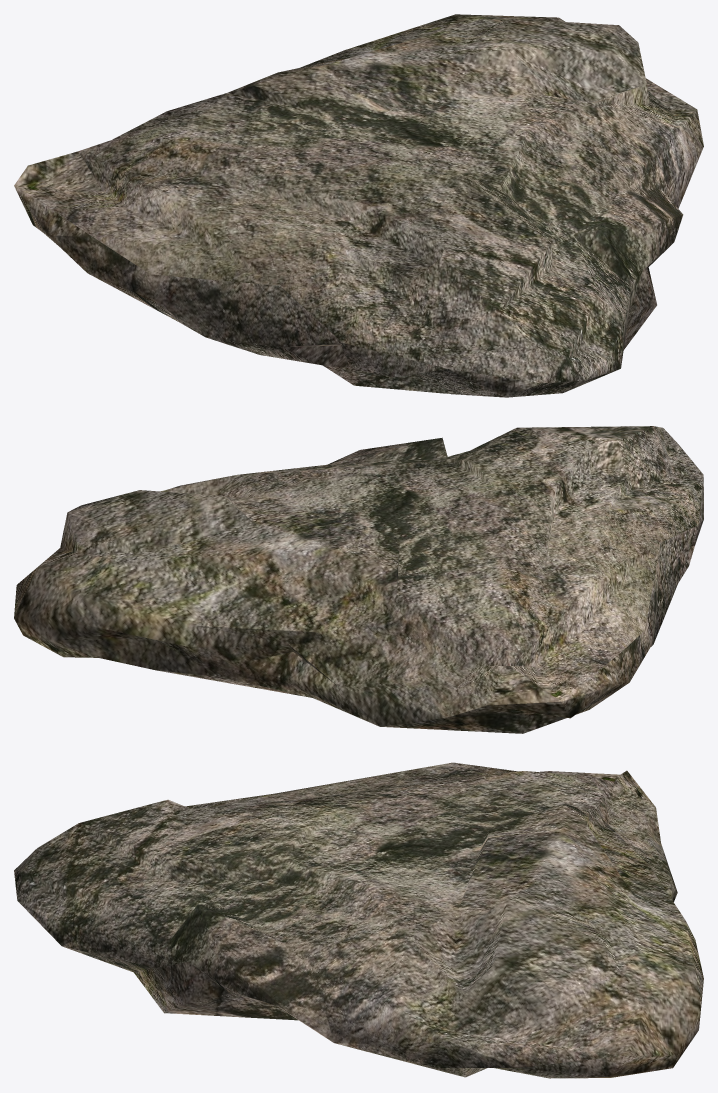
The model's file is BigRock2.glb.
3 renders of one model, top to bottom at view 1: azimuth 30°, elevation 25°; view 2: azimuth 150°, elevation 25°; view 3: azimuth 270°, elevation 25°, orthographic. The views are drawn at different scales.
Visible parts, largest first — view 1: BigRockB; view 2: BigRockB; view 3: BigRockB.
Part boxes in pixels (bbox=[...]): BigRockB: bbox=[14, 14, 703, 397]; BigRockB: bbox=[14, 426, 703, 733]; BigRockB: bbox=[14, 762, 703, 1078].
Bounding box in the file's own units: 5.91 × 1.72 × 6.26.
Materials: 1 (1 with a texture image).
